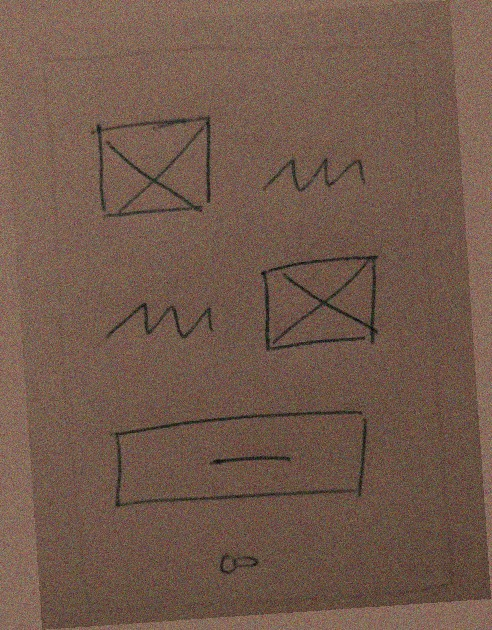button: (92, 397, 381, 525)
image: (78, 102, 231, 230), (248, 246, 394, 365)
switch: (202, 536, 276, 587)
text: (87, 285, 232, 356), (251, 140, 377, 208)
